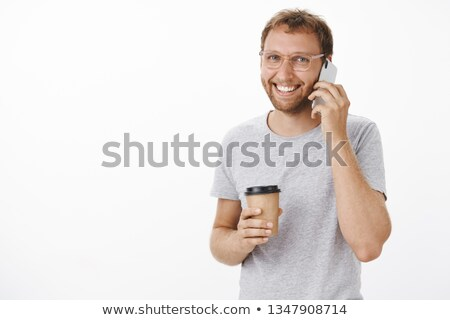phone: (316, 53, 339, 114)
talk: (257, 46, 352, 139)
